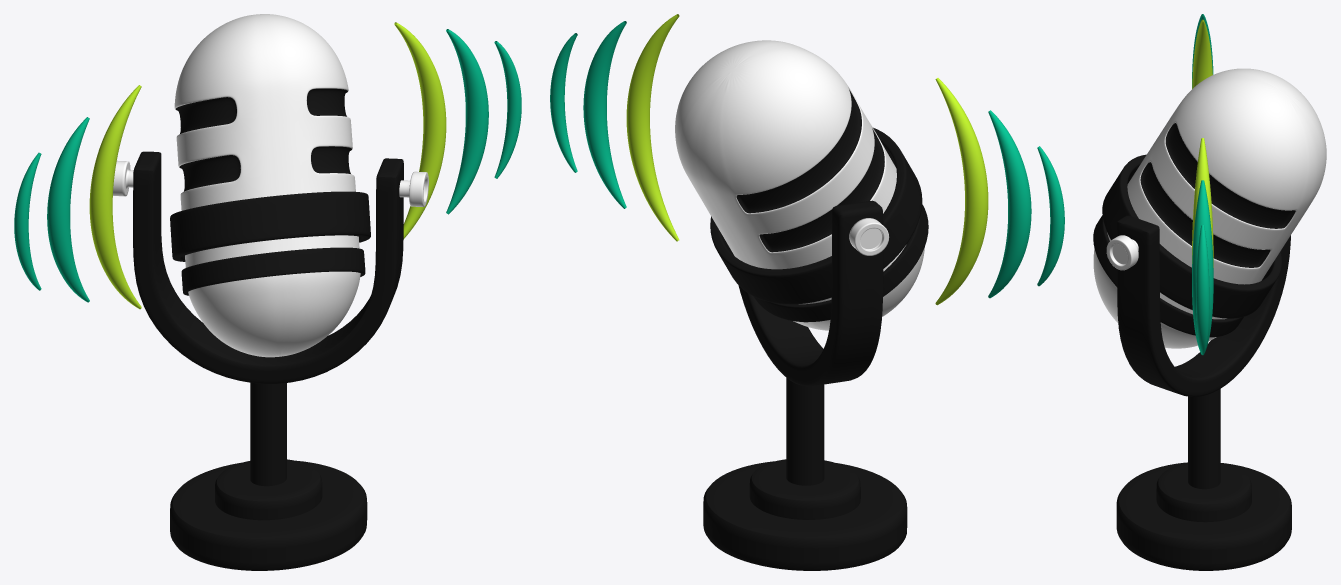
The model's file is microphone-3d-animated-icon-584155346784.glb.
3 renders of one model, left to right at view 1: azimuth 30°, elevation 25°; view 2: azimuth 150°, elevation 25°; view 3: azimuth 270°, elevation 25°, orthographic. The views are drawn at different scales.
Visible parts, largest first — view 1: Sphere.020, Cylinder.035, Sphere.022, NurbsPath.004, NurbsPath, NurbsPath.002, NurbsPath.005, NurbsPath.006, NurbsPath.003, Cylinder.038, Cylinder.039; view 2: Sphere.020, Cylinder.035, Sphere.022, NurbsPath, NurbsPath.004, NurbsPath.002, NurbsPath.005, NurbsPath.006, NurbsPath.003, Cylinder.039; view 3: Sphere.020, Cylinder.035, Sphere.022, NurbsPath.002, NurbsPath.003, NurbsPath.004, NurbsPath, Cylinder.038.
Boxes of the visible parts, <box> form: Sphere.020: <box>174,14,360,357</box>; Cylinder.035: <box>133,151,403,570</box>; Sphere.022: <box>170,191,370,295</box>; NurbsPath.004: <box>89,85,141,309</box>; NurbsPath: <box>394,22,446,238</box>; NurbsPath.002: <box>446,29,488,214</box>; NurbsPath.005: <box>47,117,89,302</box>; NurbsPath.006: <box>14,152,41,290</box>; NurbsPath.003: <box>494,41,521,178</box>; Cylinder.038: <box>399,171,428,206</box>; Cylinder.039: <box>113,160,133,196</box>; Sphere.020: <box>675,40,924,330</box>; Cylinder.035: <box>703,200,907,570</box>; Sphere.022: <box>710,127,928,322</box>; NurbsPath: <box>626,14,679,241</box>; NurbsPath.004: <box>935,78,988,305</box>; NurbsPath.002: <box>583,21,626,208</box>; NurbsPath.005: <box>988,110,1031,298</box>; NurbsPath.006: <box>1037,146,1064,286</box>; NurbsPath.003: <box>550,33,577,172</box>; Cylinder.039: <box>849,218,889,255</box>; Sphere.020: <box>1093,68,1326,348</box>; Cylinder.035: <box>1116,215,1291,570</box>; Sphere.022: <box>1093,154,1281,337</box>; NurbsPath.002: <box>1192,180,1213,352</box>; NurbsPath.003: <box>1196,225,1209,355</box>; NurbsPath.004: <box>1192,19,1212,88</box>; NurbsPath: <box>1192,138,1213,267</box>; Cylinder.038: <box>1106,235,1138,270</box>.
Size of the model in its own units: 5.66 by 5.24 by 2.4.
